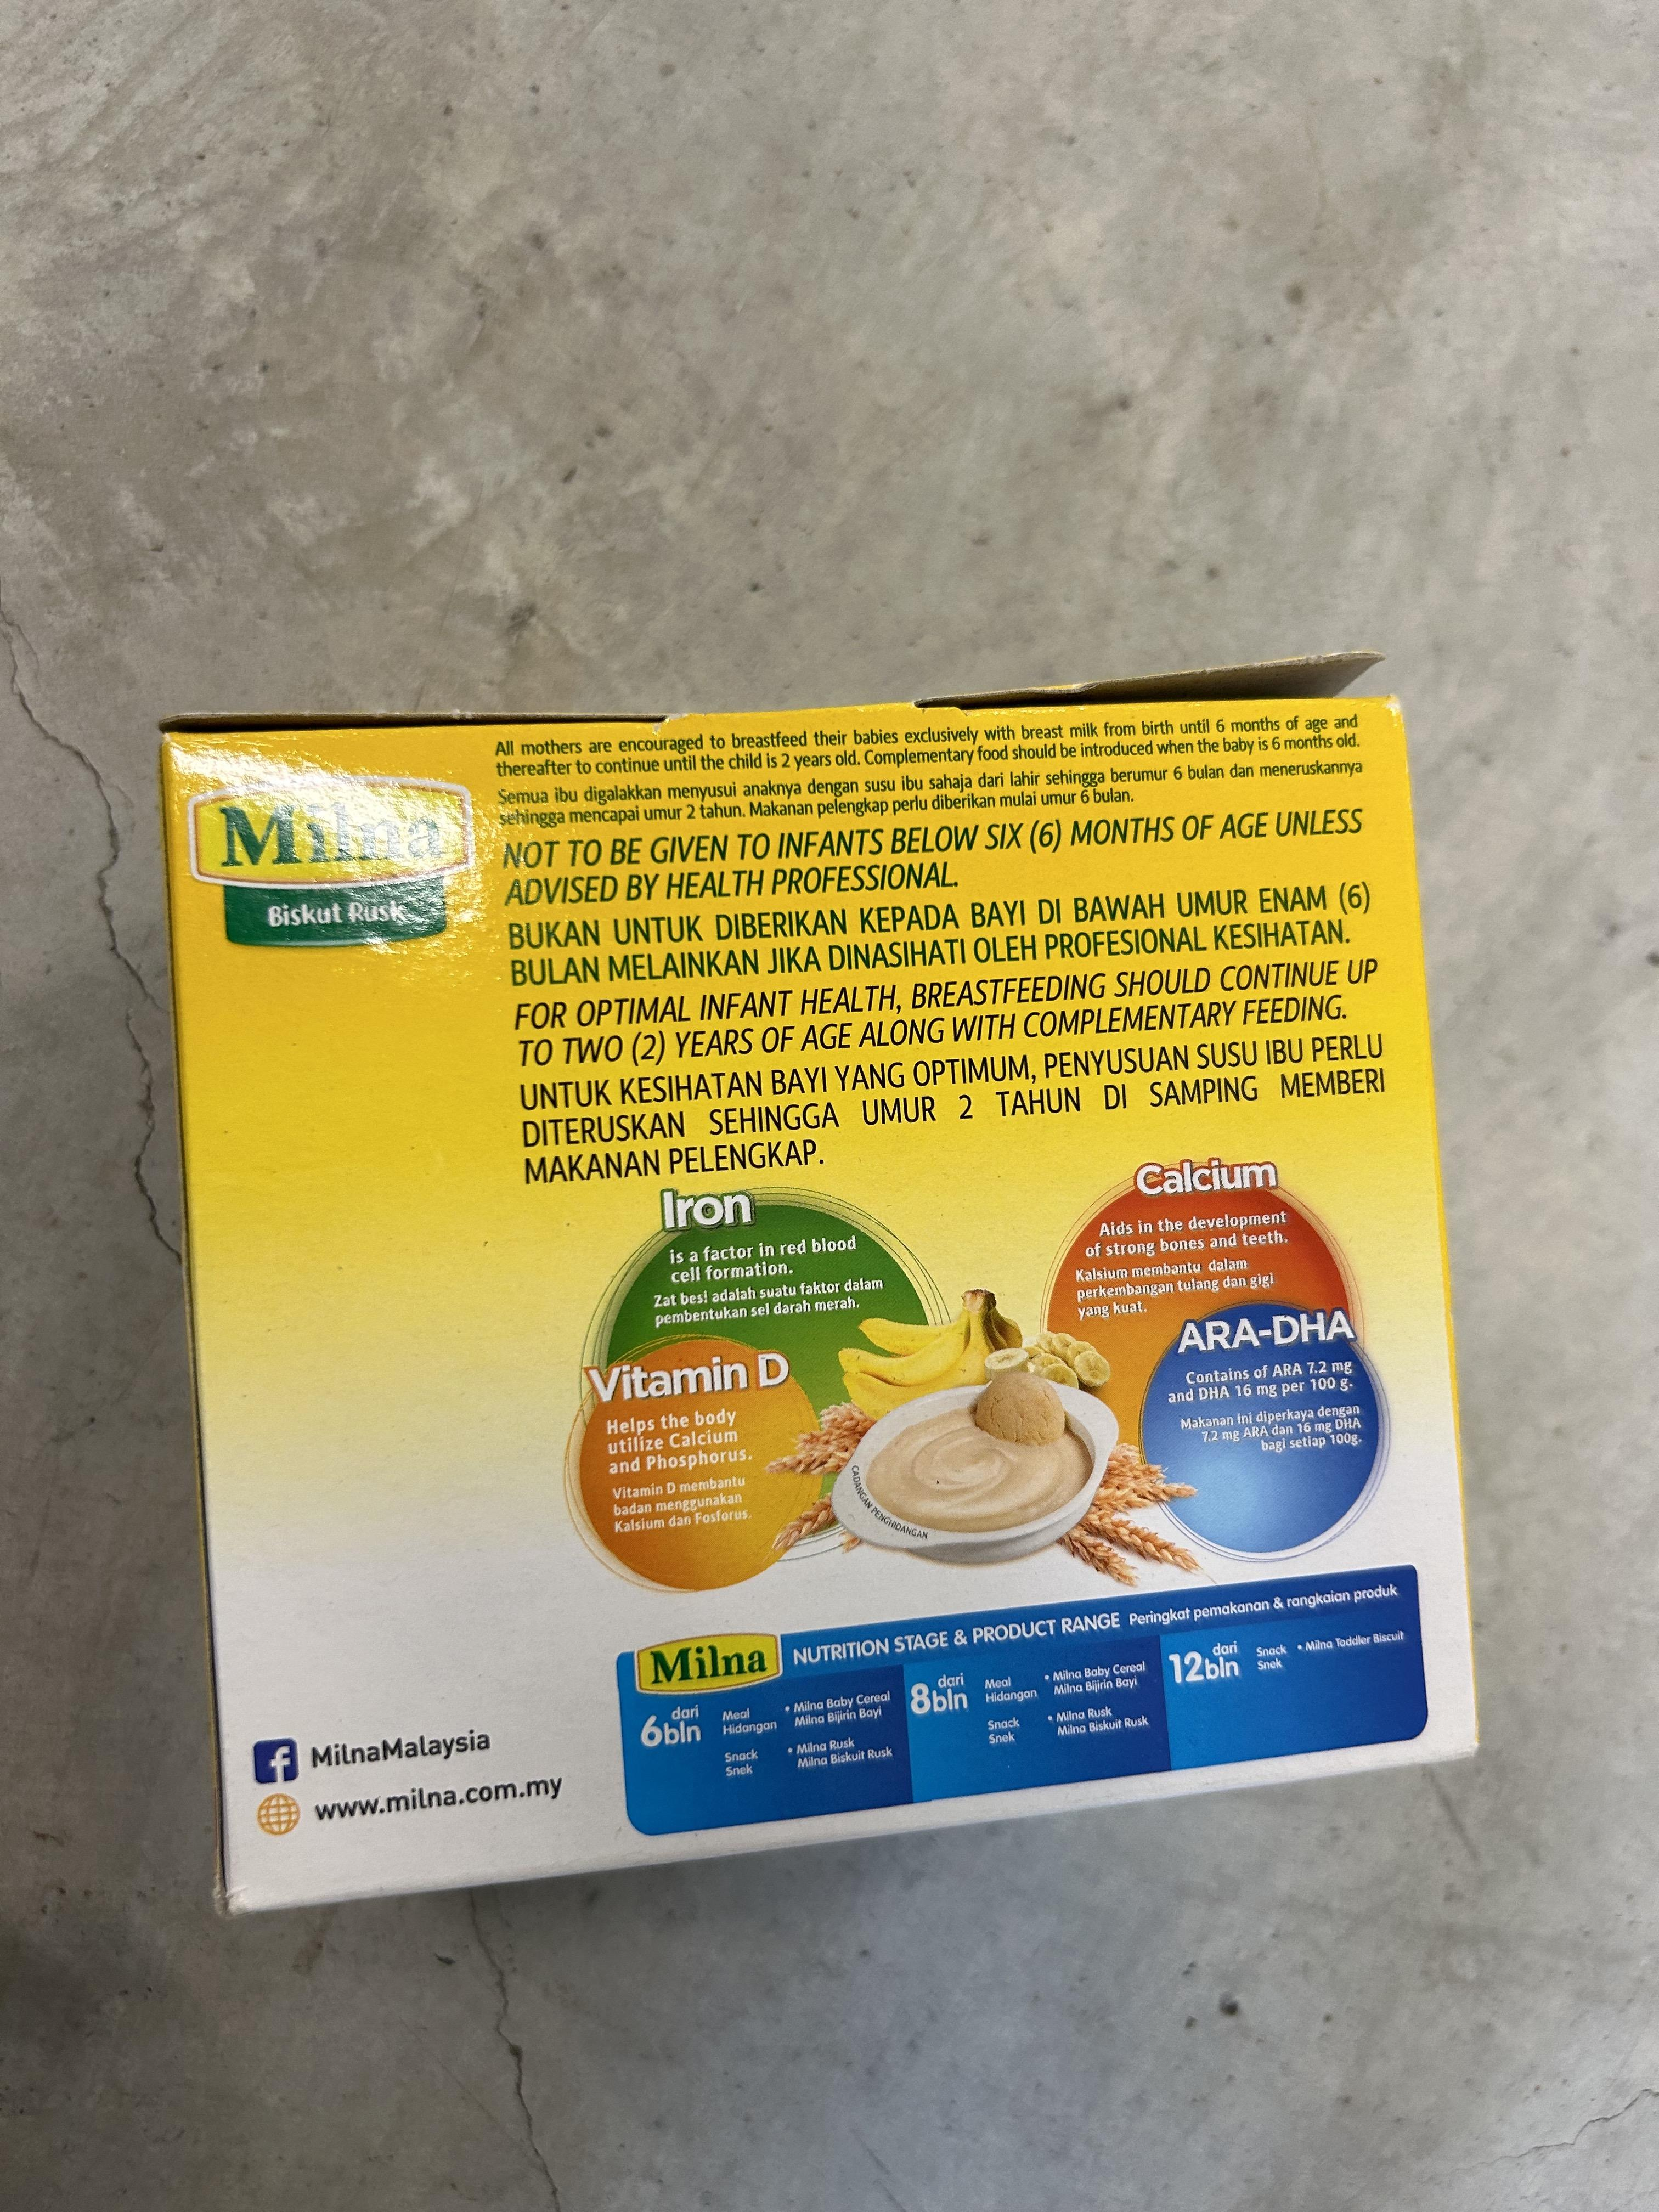object_name: (209, 752, 1387, 1726)
